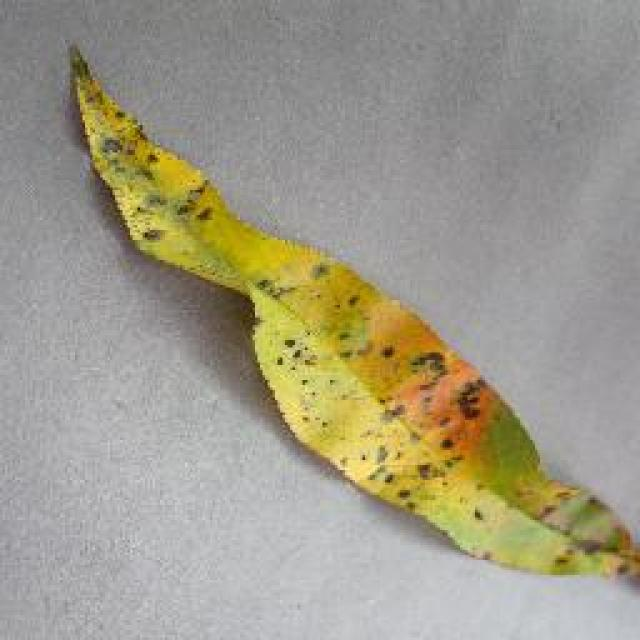Peach_Bacterial_Spot: (118, 134, 482, 504)
